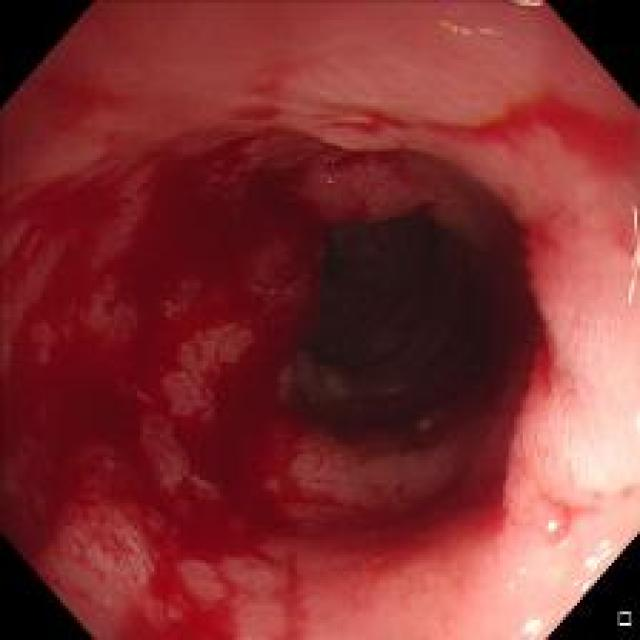blood: (9, 124, 336, 624), (351, 86, 629, 175), (466, 221, 548, 484), (339, 464, 519, 562)
bubbles: (534, 502, 572, 538)
color misalignment: (436, 18, 504, 41), (509, 1, 548, 9)
contrast: (288, 180, 516, 435)
saturation: (559, 339, 639, 521)
specularity: (574, 538, 614, 592), (621, 191, 638, 314), (519, 616, 542, 636), (548, 519, 558, 534), (506, 578, 516, 591), (519, 565, 528, 578)
